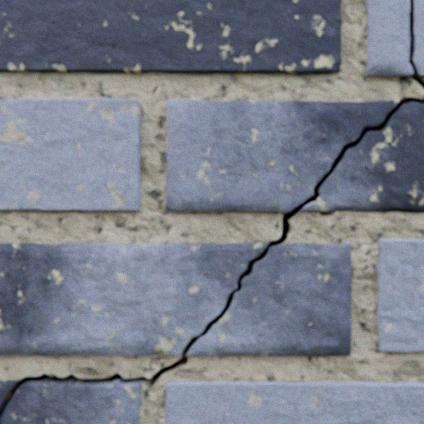brick: (0, 0, 341, 75), (0, 98, 141, 211), (166, 380, 423, 423), (376, 239, 423, 351)
broken_brick: (0, 242, 268, 355), (166, 99, 398, 211), (187, 242, 350, 355), (300, 103, 423, 212), (0, 380, 142, 423), (367, 0, 411, 77), (411, 0, 423, 76), (0, 379, 20, 410)
crack: (0, 97, 423, 422), (408, 0, 423, 90)
